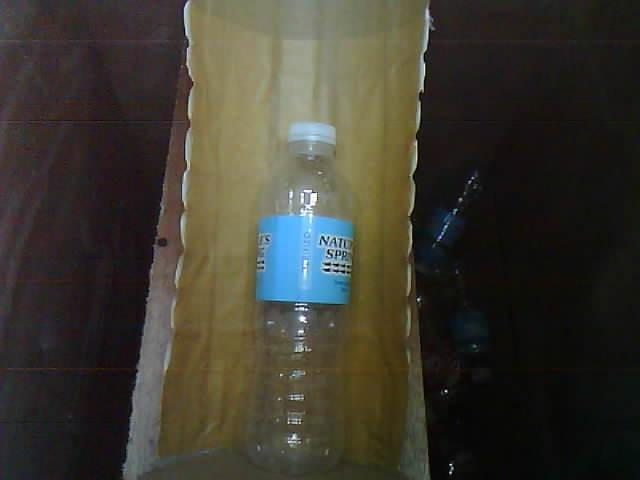small_bottle: (223, 97, 372, 475)
